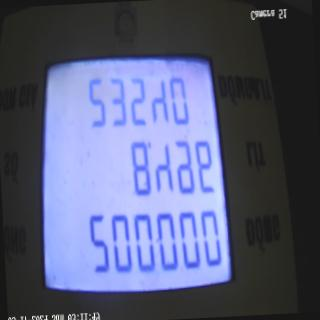screen: (29, 32, 242, 310)
